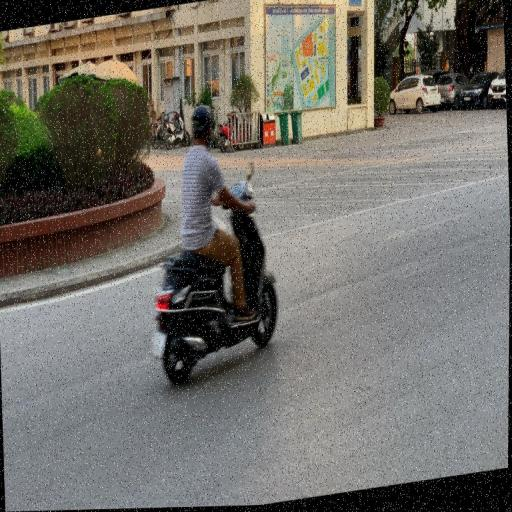bike: (142, 93, 288, 393)
numberplate: (152, 331, 169, 364)
with helmet: (189, 102, 215, 138)
